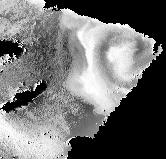AE: (79, 22, 151, 95)
